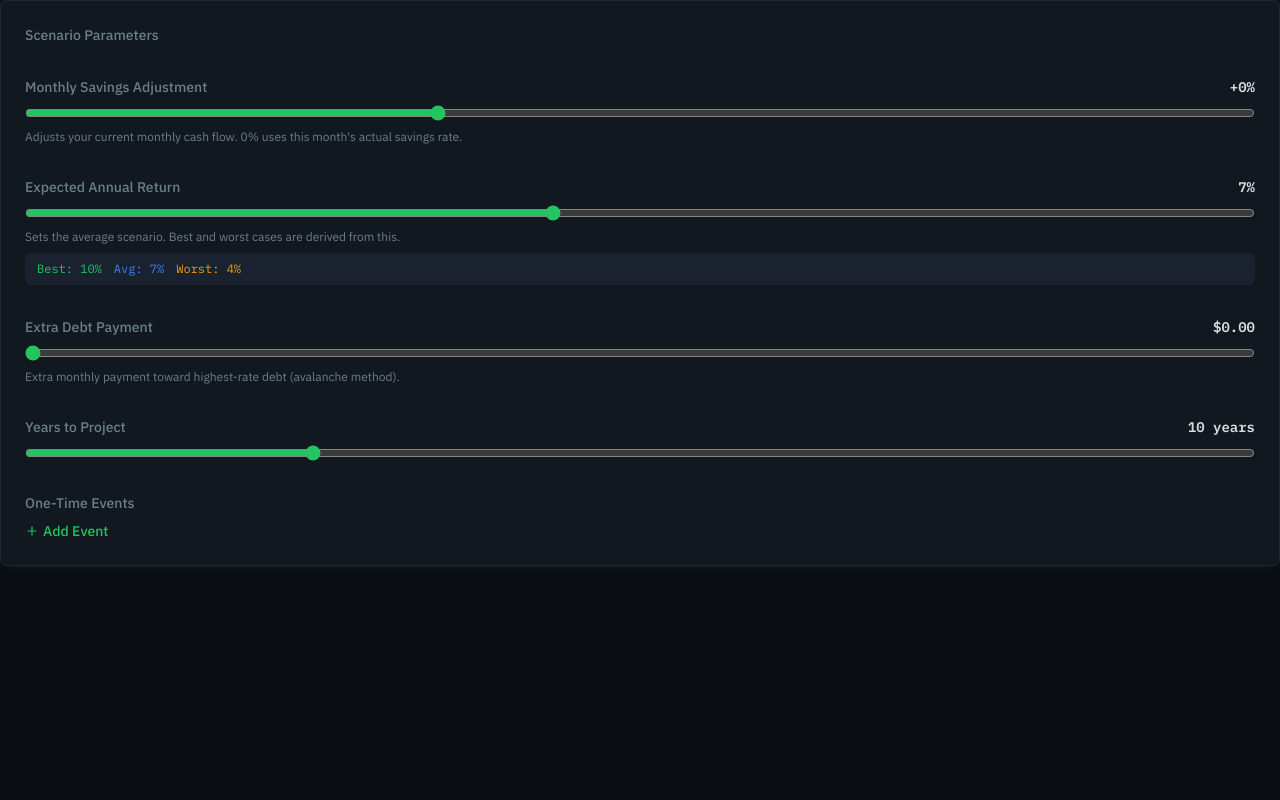
Test case: ScenarioSliders › closes add event form when Cancel is clicked
Click the button "Add Event": click(76, 531) [25,521,1255,541]
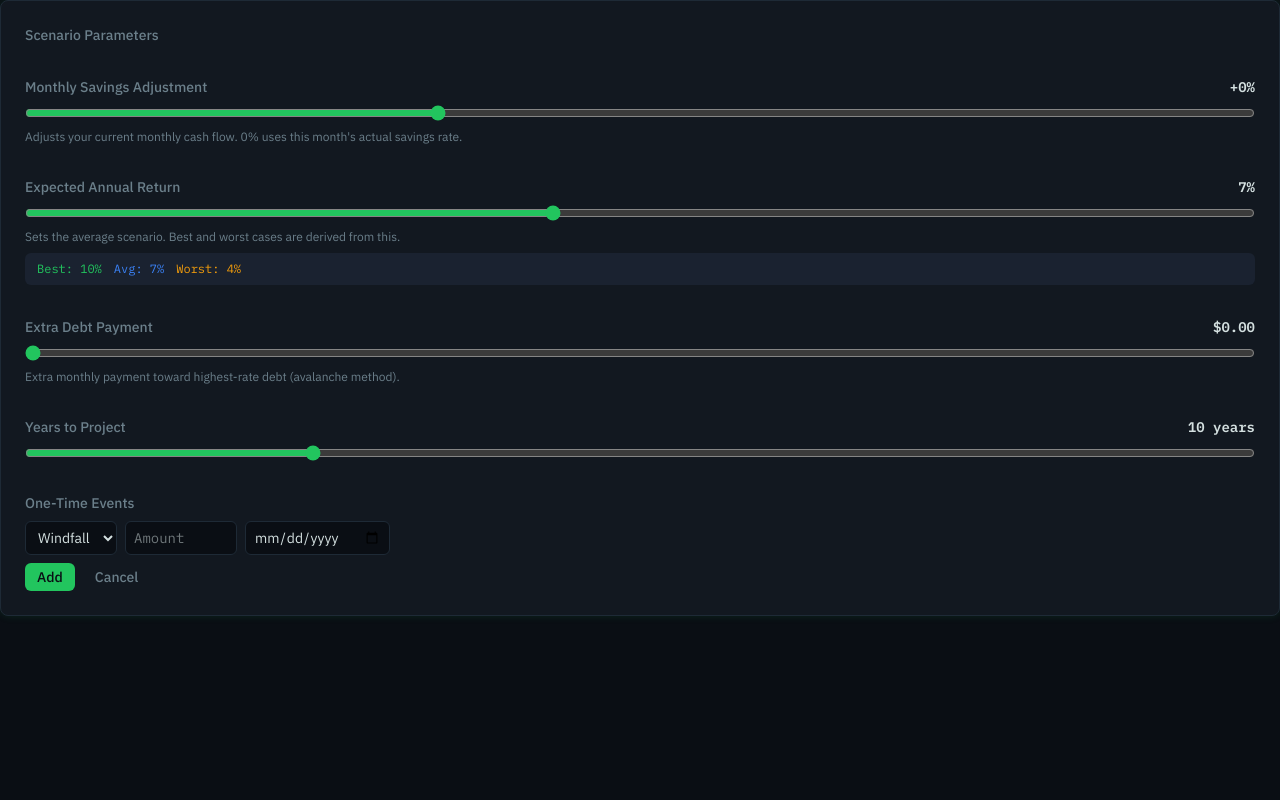
Click the button "Cancel": click(117, 577) [83,563,150,591]
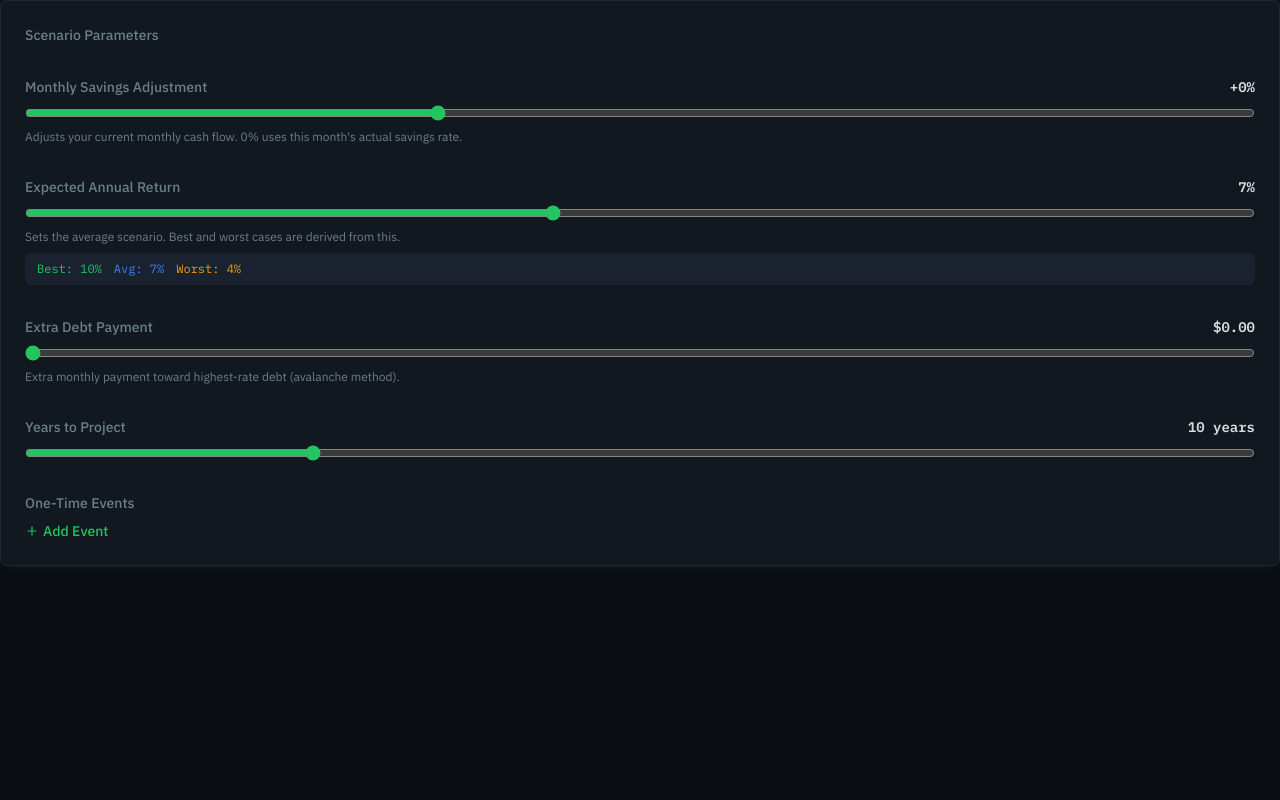
Expected: the button "Add Event" is shown, [25,521,1255,541]
